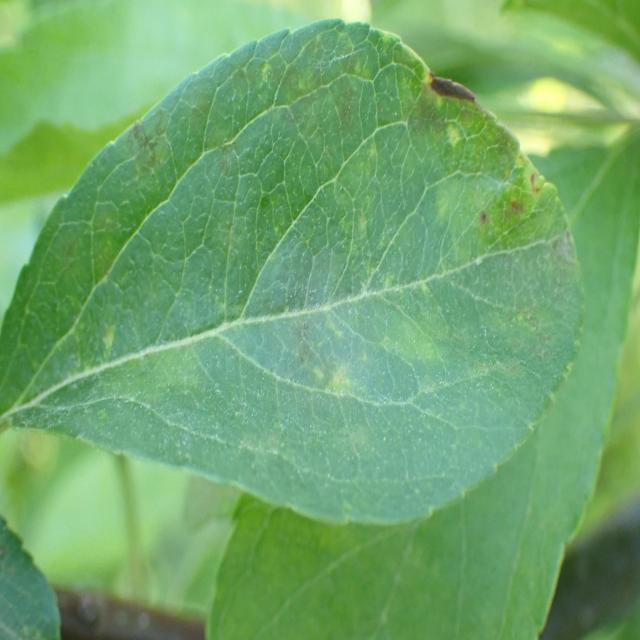scab: (63, 51, 580, 511)
